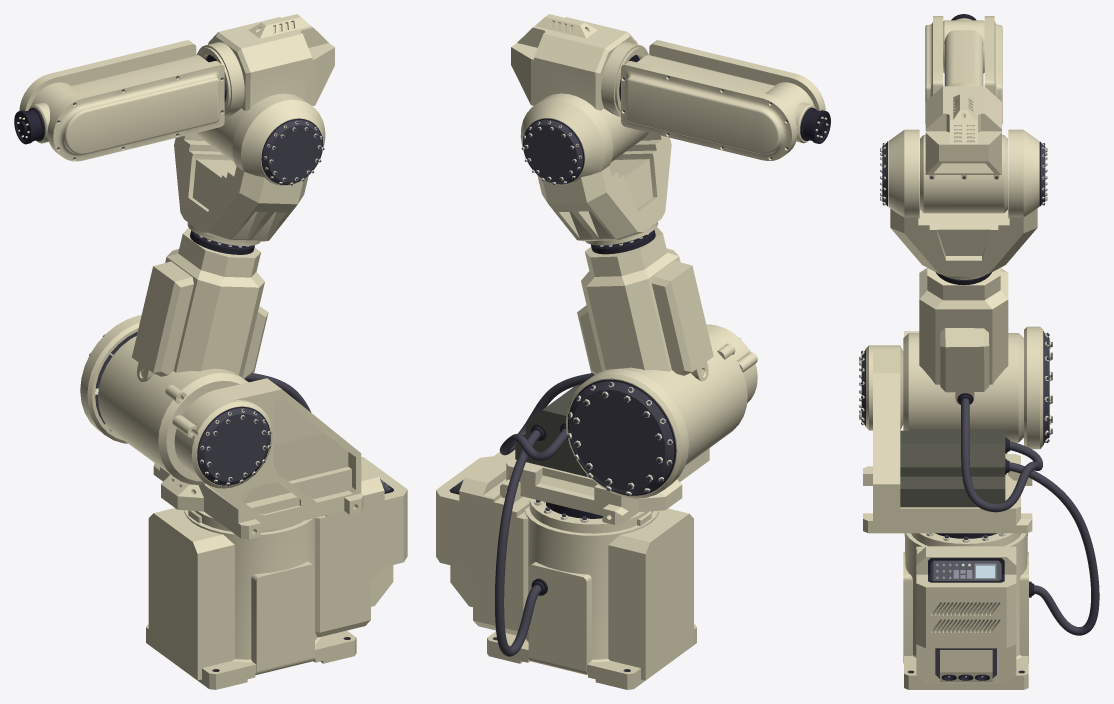
The picture shows the model from 3 angles, left to right: view 1: azimuth 30°, elevation 25°; view 2: azimuth 150°, elevation 25°; view 3: azimuth 270°, elevation 25°; orthographic projection. The views are drawn at different scales.
Visible parts, largest first — view 1: middle, base, top, hide, front, Connection structure2; view 2: middle, base, top, hide, turtle, front, Connection structure2; view 3: middle, top, base, hide, turtle, Screen.
Boxes of the visible parts, left/top/right/bottom form: middle: left=80, top=227, right=363, bottom=539; base: left=146, top=457, right=407, bottom=689; top: left=174, top=14, right=334, bottom=245; hide: left=19, top=40, right=224, bottom=161; front: left=14, top=108, right=44, bottom=144; Connection structure2: left=190, top=230, right=254, bottom=254; middle: left=500, top=227, right=757, bottom=524; base: left=436, top=449, right=696, bottom=689; top: left=511, top=14, right=671, bottom=245; hide: left=621, top=40, right=825, bottom=160; turtle: left=495, top=373, right=594, bottom=656; front: left=800, top=107, right=830, bottom=143; Connection structure2: left=591, top=229, right=655, bottom=254; middle: left=859, top=268, right=1052, bottom=533; top: left=880, top=82, right=1047, bottom=279; base: left=903, top=533, right=1034, bottom=689; hide: left=925, top=16, right=1002, bottom=124; turtle: left=961, top=398, right=1099, bottom=635; Screen: left=928, top=558, right=1004, bottom=582.
Bounding box in the file's own units: 0.6142 × 1 × 0.3833.
